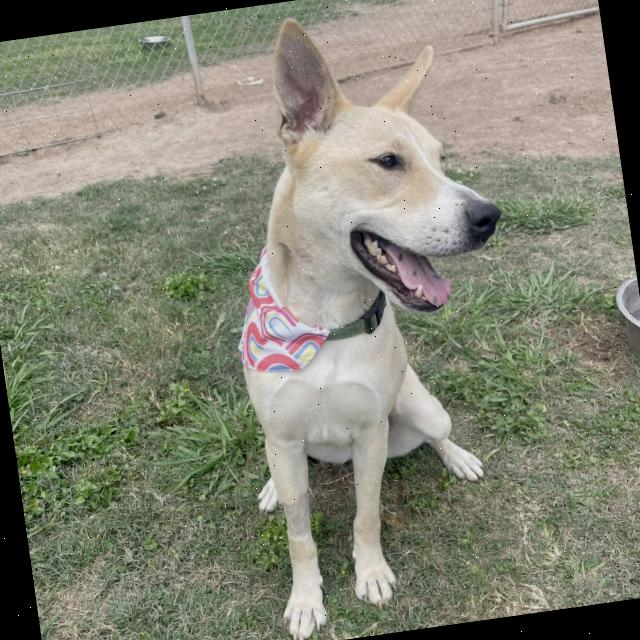labrador_retriever_dog: (242, 0, 526, 345)
